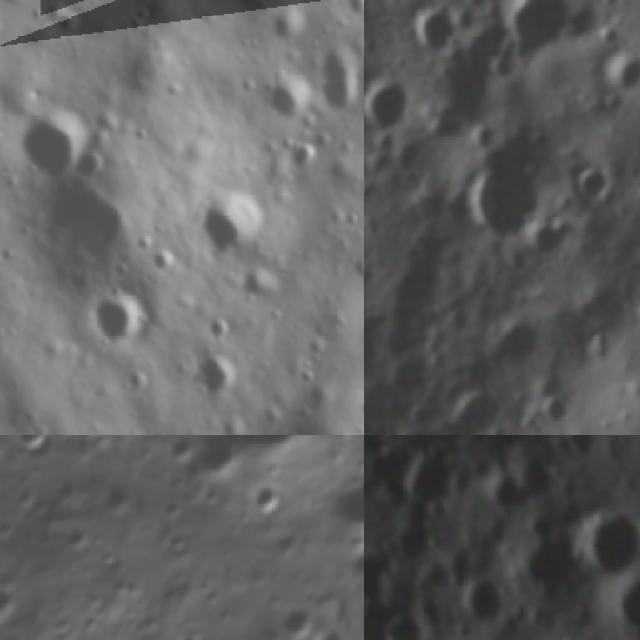crater: (153, 435, 364, 525), (562, 496, 640, 594), (459, 161, 543, 244), (487, 0, 583, 69), (50, 186, 124, 274), (398, 446, 469, 522), (22, 113, 79, 179), (204, 197, 258, 259), (456, 570, 508, 634), (400, 5, 460, 60), (326, 462, 364, 548), (443, 386, 506, 435), (86, 292, 144, 344), (364, 76, 412, 137), (178, 352, 244, 394), (246, 474, 298, 527), (475, 473, 526, 525), (320, 45, 361, 109), (270, 595, 327, 640), (507, 452, 555, 502), (492, 312, 538, 363), (572, 160, 618, 210), (364, 300, 393, 377), (0, 481, 23, 570), (612, 567, 640, 640), (600, 45, 640, 96), (100, 479, 144, 525), (528, 217, 566, 266), (388, 528, 433, 568), (57, 519, 98, 562), (159, 435, 206, 472), (364, 547, 392, 605), (263, 79, 301, 120), (534, 392, 572, 430), (10, 435, 61, 461), (364, 603, 399, 640), (381, 612, 427, 640), (80, 150, 106, 182), (73, 435, 122, 448), (433, 435, 471, 449), (173, 629, 210, 640), (350, 0, 364, 23)
